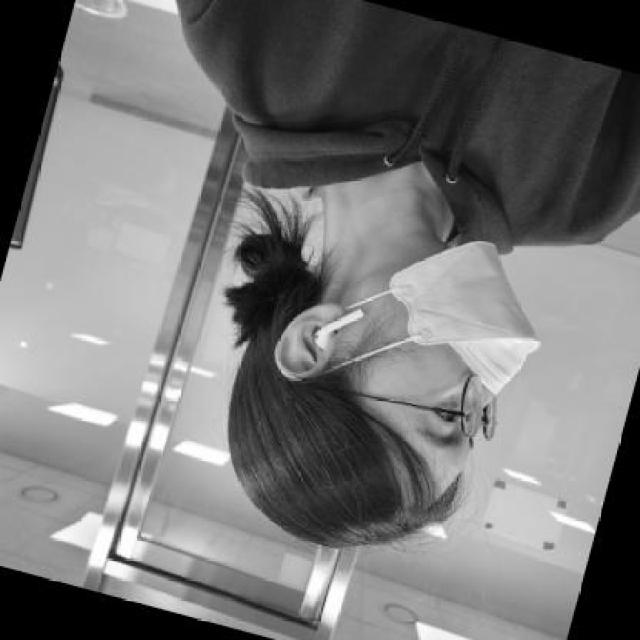earphone: (307, 250, 375, 368)
